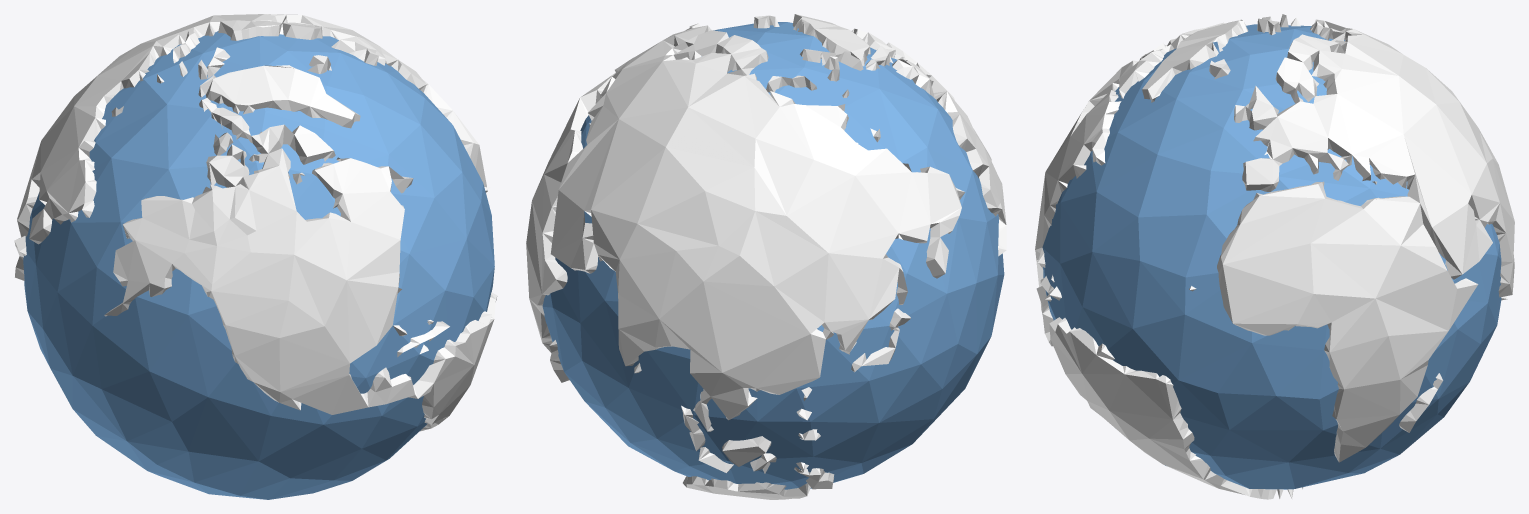
File: low_poly_earth.gltf
The picture shows the model from 3 angles, left to right: view 1: azimuth 30°, elevation 25°; view 2: azimuth 150°, elevation 25°; view 3: azimuth 270°, elevation 25°; orthographic projection.
Visible parts, largest first — view 1: low_poly_earth; view 2: low_poly_earth; view 3: low_poly_earth.
Boxes of the visible parts, left/top/right/bottom form: low_poly_earth: left=14, top=14, right=497, bottom=499; low_poly_earth: left=526, top=14, right=1006, bottom=499; low_poly_earth: left=1035, top=14, right=1514, bottom=499.
Bounding box in the file's own units: 941 × 972 × 963.
